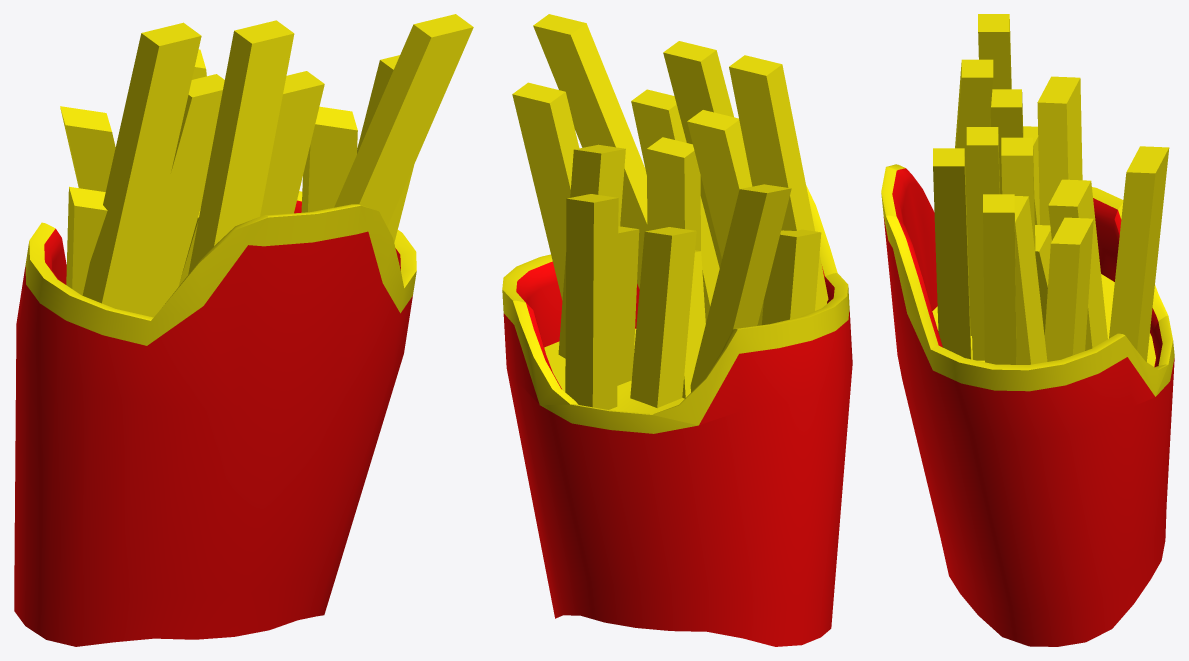
Rendered from objectsdebouffe.fbx.
3 renders of one model, left to right at view 1: azimuth 30°, elevation 25°; view 2: azimuth 150°, elevation 25°; view 3: azimuth 270°, elevation 25°, orthographic. The views are drawn at different scales.
Visible parts, largest first — view 1: objectsdebouffe; view 2: objectsdebouffe; view 3: objectsdebouffe.
Part boxes in pixels (bbox=[...]): objectsdebouffe: bbox=[14, 14, 473, 646]; objectsdebouffe: bbox=[502, 14, 852, 646]; objectsdebouffe: bbox=[881, 14, 1174, 646].
Size of the model in its own units: 62.01 by 96.5 by 46.69.
